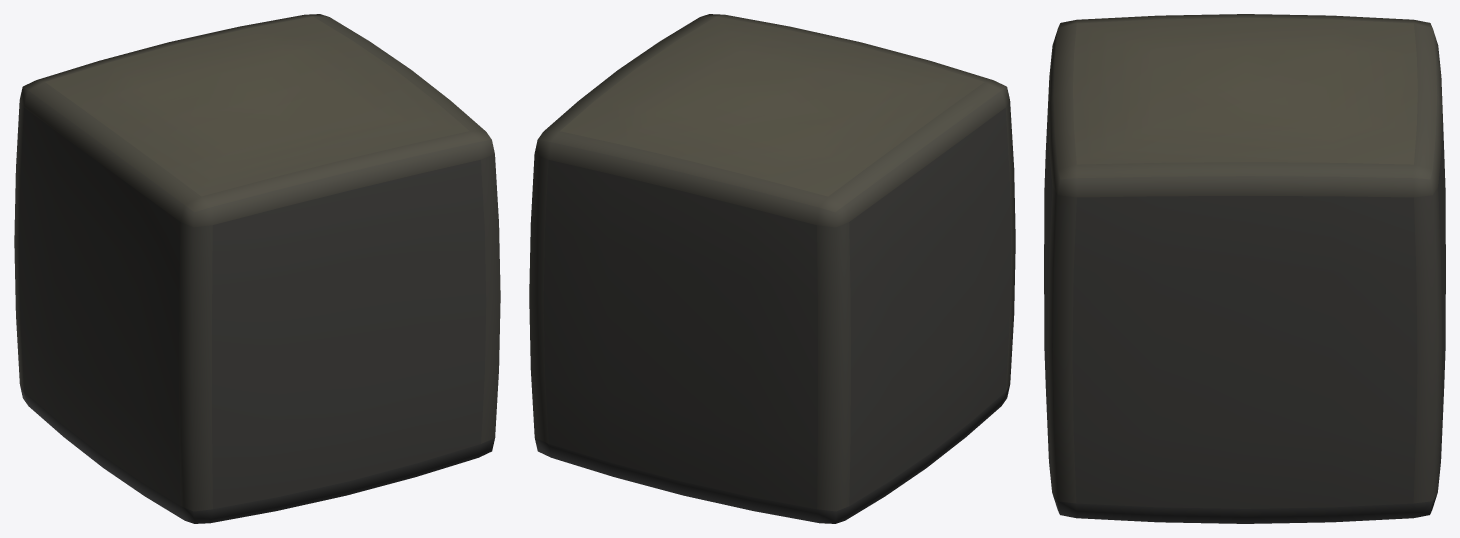
File: block_stone4_2_LOD_setup.fbx
The picture shows the model from 3 angles, left to right: view 1: azimuth 30°, elevation 25°; view 2: azimuth 150°, elevation 25°; view 3: azimuth 270°, elevation 25°; orthographic projection. The views are drawn at different scales.
Parts seen in each view (by area): view 1: block_stone4_2_LOD0; view 2: block_stone4_2_LOD0; view 3: block_stone4_2_LOD0.
Boxes of the visible parts, bbox=[...] form: block_stone4_2_LOD0: bbox=[14, 14, 500, 523]; block_stone4_2_LOD0: bbox=[529, 14, 1015, 523]; block_stone4_2_LOD0: bbox=[1044, 14, 1445, 523].
Size of what is drawn, in the model's own units: 109 by 109 by 109.
